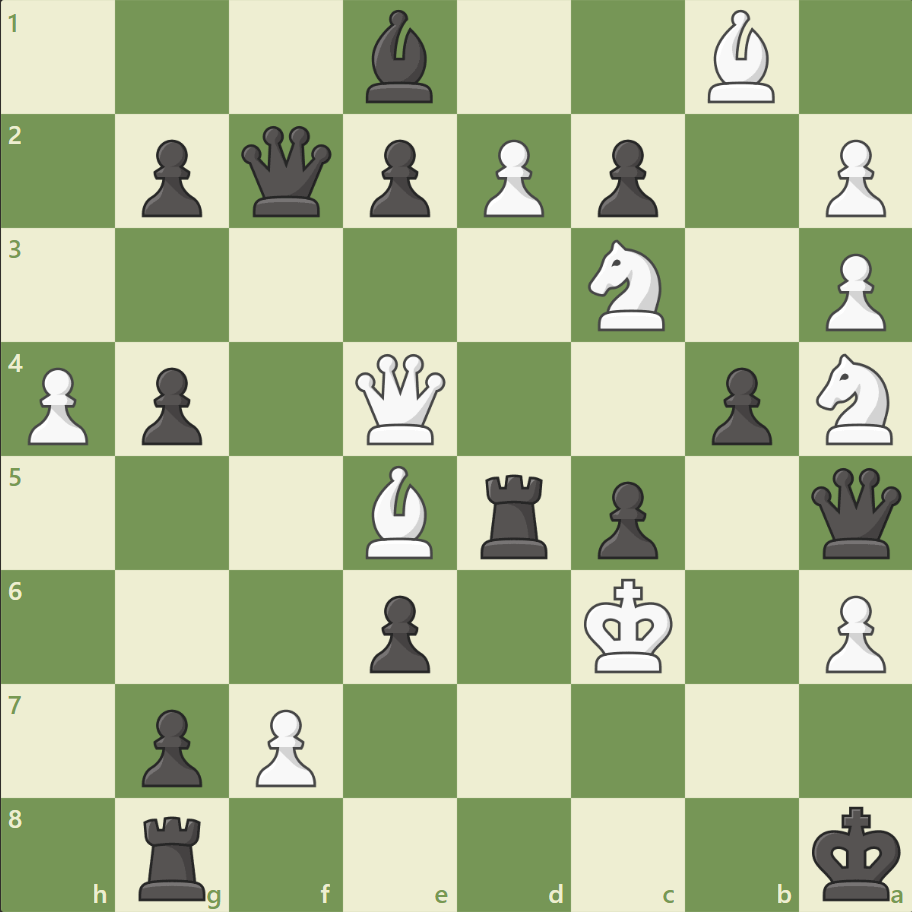B: (358, 460, 442, 563), (698, 6, 782, 109)
K: (579, 571, 679, 679)
N: (579, 234, 676, 337), (806, 348, 903, 450)
P: (247, 700, 322, 791), (20, 359, 95, 450), (474, 132, 549, 223), (815, 586, 889, 677), (815, 246, 889, 337), (815, 132, 889, 223)
Q: (351, 349, 450, 449)
b: (358, 6, 442, 109)
k: (806, 798, 906, 906)
p: (133, 700, 208, 791), (701, 359, 776, 450), (133, 359, 208, 450), (133, 132, 208, 223), (361, 586, 435, 677), (588, 473, 662, 564), (588, 132, 662, 223), (361, 132, 435, 223)
q: (237, 122, 336, 222), (805, 463, 904, 562)
r: (473, 466, 556, 563), (133, 806, 215, 904)
